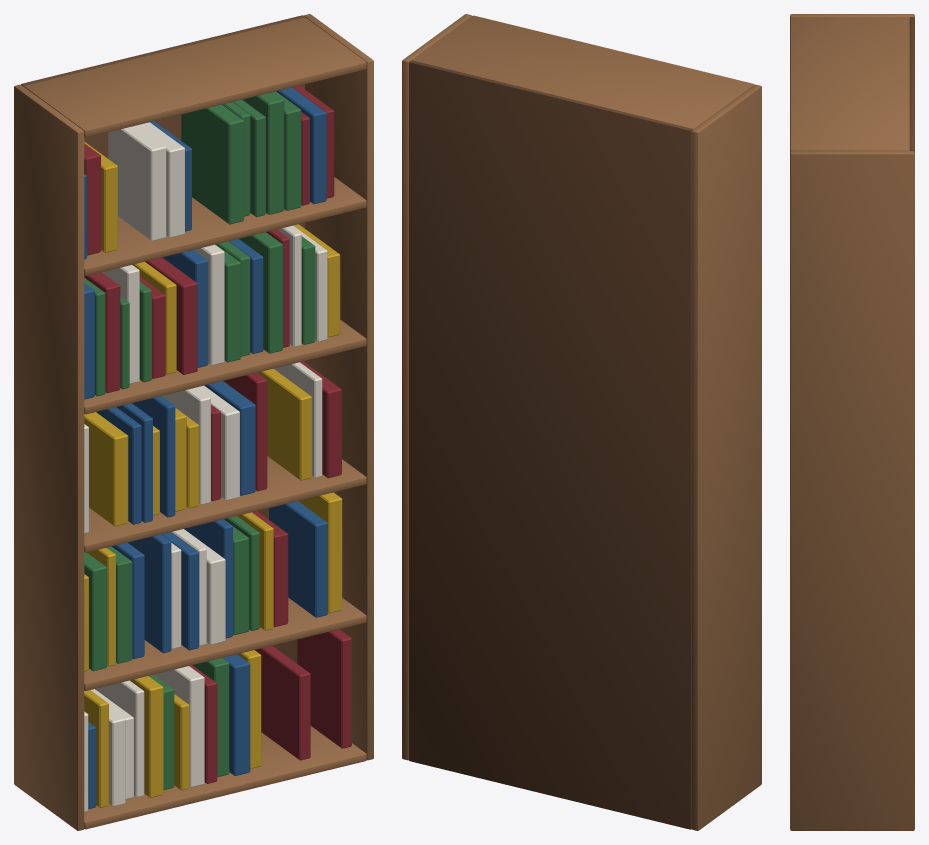
Rendered from shelf_book.glb.
The picture shows the model from 3 angles, left to right: view 1: azimuth 30°, elevation 25°; view 2: azimuth 150°, elevation 25°; view 3: azimuth 270°, elevation 25°; orthographic projection. The views are drawn at different scales.
Visible parts, largest first — view 1: box, box.001, box.008, box.007, box.003, box.005, box.004, box.084, box.006, box.081, box.024, box.023 (+75 smaller); view 2: box.002, box, box.008, box.001; view 3: box.001, box.008, box.002, box.
Part boxes in pixels (left/top/right/bottom): box: left=14, top=84, right=84, bottom=830; box.001: left=304, top=14, right=373, bottom=760; box.008: left=24, top=17, right=366, bottom=137; box.007: left=84, top=177, right=366, bottom=275; box.003: left=84, top=726, right=366, bottom=829; box.005: left=84, top=456, right=366, bottom=552; box.004: left=84, top=598, right=366, bottom=690; box.084: left=181, top=104, right=243, bottom=224; box.006: left=84, top=320, right=366, bottom=414; box.081: left=108, top=125, right=166, bottom=240; box.024: left=297, top=629, right=351, bottom=748; box.023: left=255, top=645, right=310, bottom=760; box.002: left=409, top=60, right=692, bottom=829; box: left=691, top=84, right=761, bottom=830; box.008: left=412, top=15, right=754, bottom=129; box.001: left=402, top=14, right=471, bottom=760; box.001: left=790, top=151, right=914, bottom=830; box.008: left=790, top=17, right=909, bottom=151; box.002: left=910, top=17, right=914, bottom=151; box: left=790, top=14, right=914, bottom=151.
Bounding box in the file's own units: 80 × 180 × 30.01.
